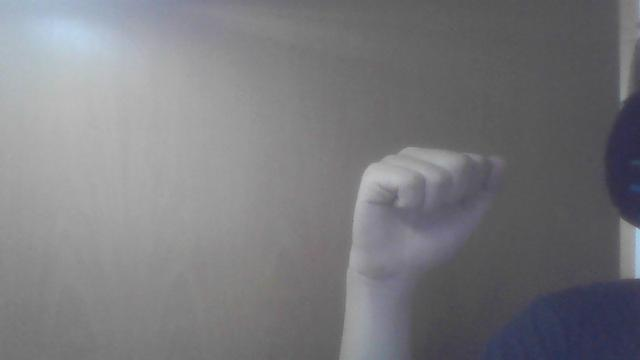forward: (338, 145, 506, 358)
